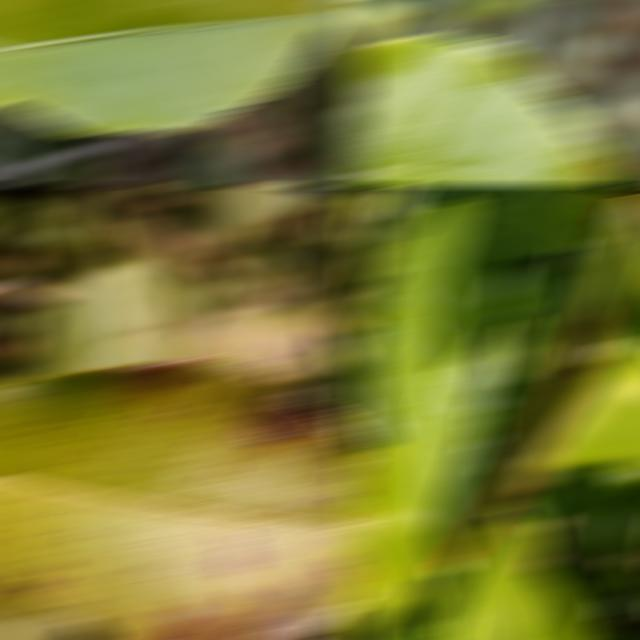Leaf: (0, 359, 367, 638), (361, 200, 505, 528), (0, 2, 342, 133), (349, 35, 619, 184), (21, 262, 185, 376), (420, 498, 549, 638), (378, 186, 601, 260), (537, 464, 622, 631), (537, 332, 640, 468), (176, 307, 337, 381), (504, 248, 573, 360), (431, 459, 506, 548), (214, 186, 294, 253), (525, 332, 585, 419), (536, 370, 600, 442), (319, 2, 367, 56), (187, 145, 249, 184), (532, 325, 568, 368), (615, 528, 640, 589)
